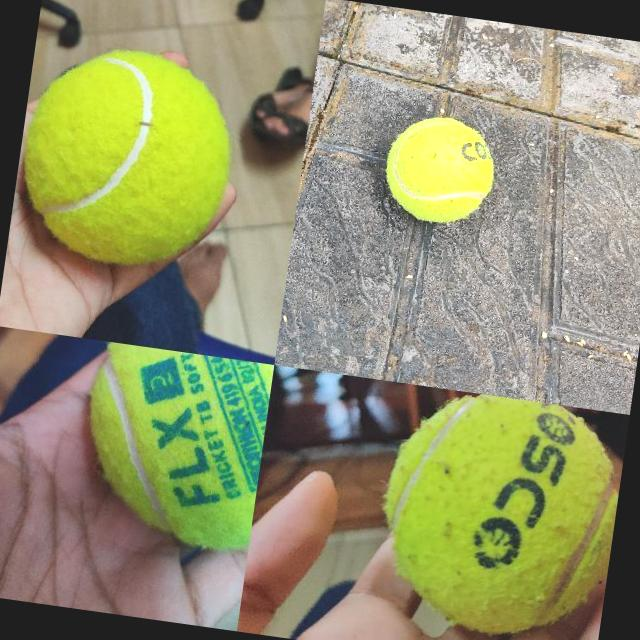Tennis Ball: (369, 383, 628, 640), (11, 38, 242, 276), (72, 340, 274, 553), (378, 108, 500, 230)
